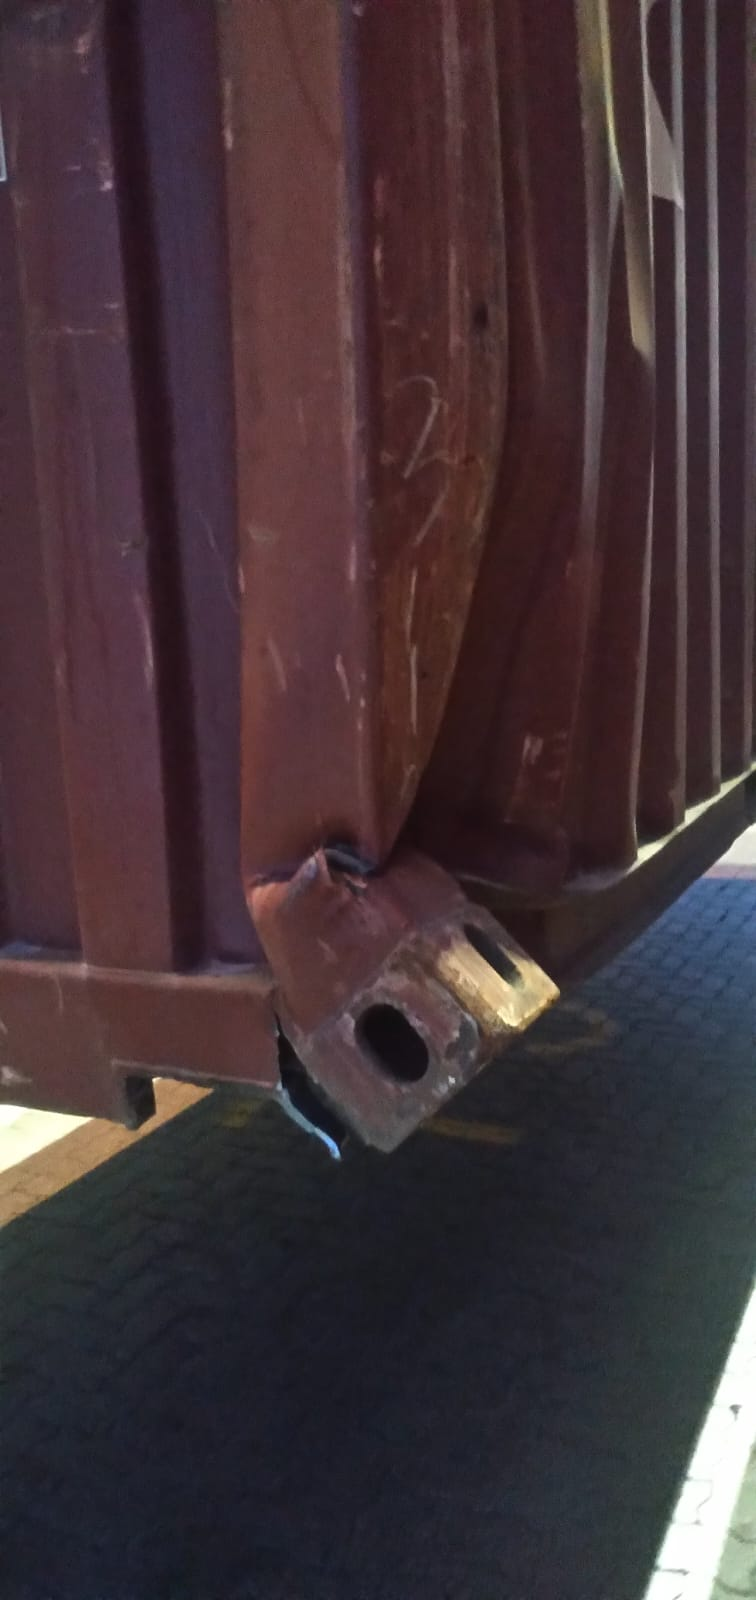bulged: (387, 104, 719, 486)
dented: (195, 669, 555, 1101)
